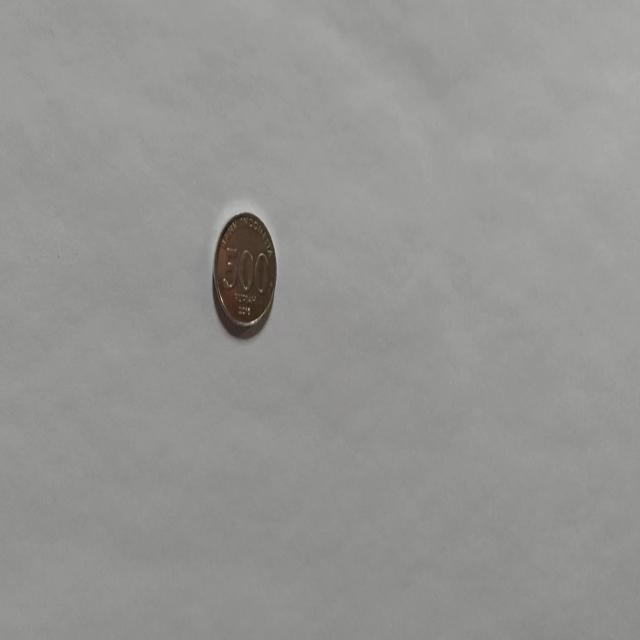lima ratus rupiah: (210, 208, 278, 334)
